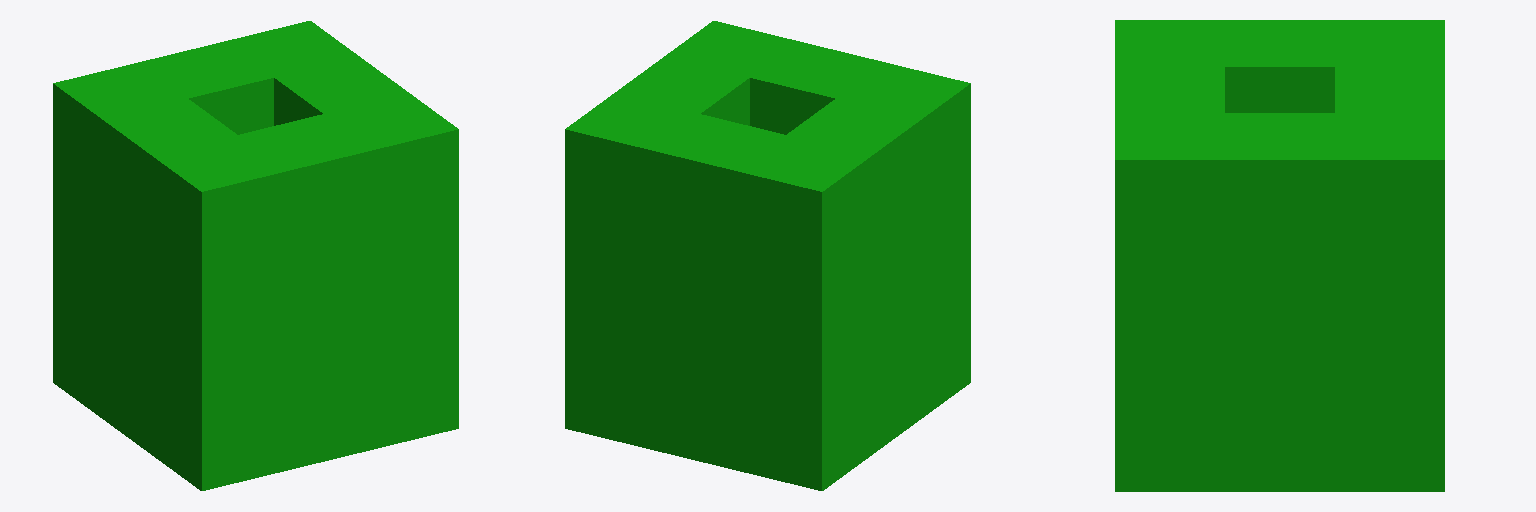
The robot description file, URDF, robot "keyhole":
<?xml version="1.0"?>
<robot name="keyhole">
  <link name="world"/>

  <joint name="fixed" type="fixed">
      <parent link="world"/>
      <child link="keyhole_link"/>
      <origin xyz="0 0 0"/>
  </joint>

  <link name="keyhole_link">
    <inertial>
      <origin rpy="0 0 0" xyz="0 0 0"/>
      <mass value="0.02"/>
      <inertia ixx="1" ixy="0" ixz="0" iyy="1" iyz="0" izz="1"/>
    </inertial>
    <visual>
      <origin rpy="0 0 0" xyz="0.0 0.15 0.0"/>
      <geometry>
        <box size="0.15 0.15 0.5"/>
      </geometry>
      <material name="blockmat">
        <color rgba="0.1 0.7 0.1 1"/>
      </material>
    </visual>
    <collision>
      <origin rpy="0 0 0" xyz="0.0 0.15 0.0"/>
      <geometry>
        <box size="0.15 0.15 0.5"/>
      </geometry>
    </collision>
    <visual>
      <origin rpy="0 0 0" xyz="0.15 0.15 0.0"/>
      <geometry>
        <box size="0.15 0.15 0.5"/>
      </geometry>
      <material name="blockmat">
        <color rgba="0.1 0.7 0.1 1"/>
      </material>
    </visual>
    <collision>
      <origin rpy="0 0 0" xyz="0.15 0.15 0.0"/>
      <geometry>
        <box size="0.15 0.15 0.5"/>
      </geometry>
    </collision>
    <visual>
      <origin rpy="0 0 0" xyz="0.15 0.0 0.0"/>
      <geometry>
        <box size="0.15 0.15 0.5"/>
      </geometry>
      <material name="blockmat">
        <color rgba="0.1 0.7 0.1 1"/>
      </material>
    </visual>
    <collision>
      <origin rpy="0 0 0" xyz="0.15 0.0 0.0"/>
      <geometry>
        <box size="0.15 0.15 0.5"/>
      </geometry>
    </collision>
    <visual>
      <origin rpy="0 0 0" xyz="0.15 -0.15 0.0"/>
      <geometry>
        <box size="0.15 0.15 0.5"/>
      </geometry>
      <material name="blockmat">
        <color rgba="0.1 0.7 0.1 1"/>
      </material>
    </visual>
    <collision>
      <origin rpy="0 0 0" xyz="0.15 -0.15 0.0"/>
      <geometry>
        <box size="0.15 0.15 0.5"/>
      </geometry>
    </collision>
    <visual>
      <origin rpy="0 0 0" xyz="0.0 -0.15 0.0"/>
      <geometry>
        <box size="0.15 0.15 0.5"/>
      </geometry>
      <material name="blockmat">
        <color rgba="0.1 0.7 0.1 1"/>
      </material>
    </visual>
    <collision>
      <origin rpy="0 0 0" xyz="0.0 -0.15 0.0"/>
      <geometry>
        <box size="0.15 0.15 0.5"/>
      </geometry>
    </collision>
    <visual>
      <origin rpy="0 0 0" xyz="-0.15 -0.15 0.0"/>
      <geometry>
        <box size="0.15 0.15 0.5"/>
      </geometry>
      <material name="blockmat">
        <color rgba="0.1 0.7 0.1 1"/>
      </material>
    </visual>
    <collision>
      <origin rpy="0 0 0" xyz="-0.15 -0.15 0.0"/>
      <geometry>
        <box size="0.15 0.15 0.5"/>
      </geometry>
    </collision>
    <visual>
      <origin rpy="0 0 0" xyz="-0.15 0.0 0.0"/>
      <geometry>
        <box size="0.15 0.15 0.5"/>
      </geometry>
      <material name="blockmat">
        <color rgba="0.1 0.7 0.1 1"/>
      </material>
    </visual>
    <collision>
      <origin rpy="0 0 0" xyz="-0.15 0.0 0.0"/>
      <geometry>
        <box size="0.15 0.15 0.5"/>
      </geometry>
    </collision>
    <visual>
      <origin rpy="0 0 0" xyz="-0.15 0.15 0.0"/>
      <geometry>
        <box size="0.15 0.15 0.5"/>
      </geometry>
      <material name="blockmat">
        <color rgba="0.1 0.7 0.1 1"/>
      </material>
    </visual>
    <collision>
      <origin rpy="0 0 0" xyz="-0.15 0.15 0.0"/>
      <geometry>
        <box size="0.15 0.15 0.5"/>
      </geometry>
    </collision>
  </link>
</robot>

--- Facts derived from the render (not from the file) ---
Views: 3 orthographic renders of the robot side by side, from view 1: azimuth 30°, elevation 25°; view 2: azimuth 150°, elevation 25°; view 3: azimuth 270°, elevation 25°.
Model keyhole with 2 links and 1 joints (1 fixed), rooted at world, posed all joints at 0.
Visible links, largest first — view 1: keyhole_link; view 2: keyhole_link; view 3: keyhole_link.
Link boxes in pixels (x1=…): keyhole_link: x1=53, y1=21, x2=458, y2=490; keyhole_link: x1=565, y1=21, x2=970, y2=490; keyhole_link: x1=1115, y1=20, x2=1444, y2=491.
Size in the robot's own frame: 0.45 by 0.45 by 0.5 metres.
Geometry: primitives only (box / cylinder / sphere), no mesh files.